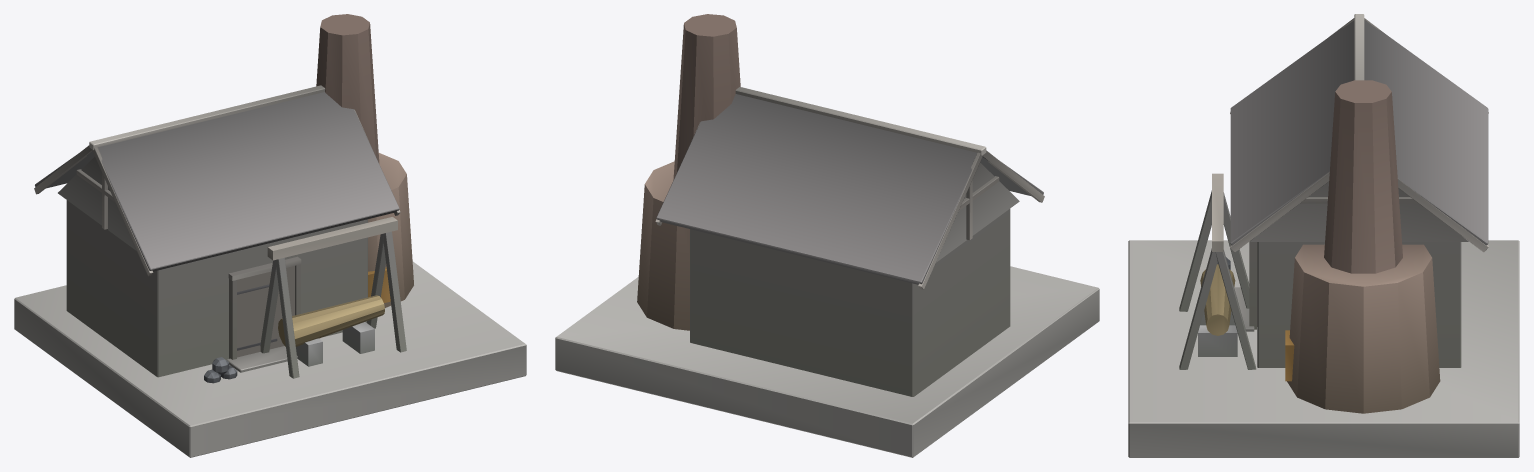
The model's file is gun_foundry_l1_lod1.glb.
The picture shows the model from 3 angles, left to right: view 1: azimuth 30°, elevation 25°; view 2: azimuth 150°, elevation 25°; view 3: azimuth 270°, elevation 25°; orthographic projection. The views are drawn at different scales.
Parts seen in each view (by area): view 1: gun_foundry_l1_lod1; view 2: gun_foundry_l1_lod1; view 3: gun_foundry_l1_lod1.
Boxes of the visible parts, bbox=[...] form: gun_foundry_l1_lod1: bbox=[14, 14, 526, 457]; gun_foundry_l1_lod1: bbox=[555, 14, 1099, 457]; gun_foundry_l1_lod1: bbox=[1128, 14, 1519, 457].
Size of the model in its own units: 10.4 by 8.63 by 9.4.
